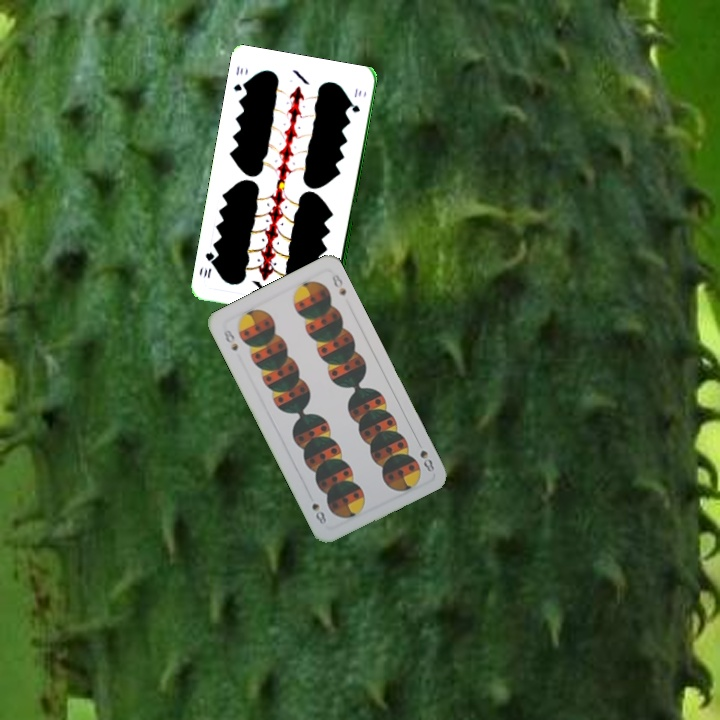G10: (230, 62, 250, 94)
S8: (416, 445, 437, 475), (219, 326, 241, 354)
